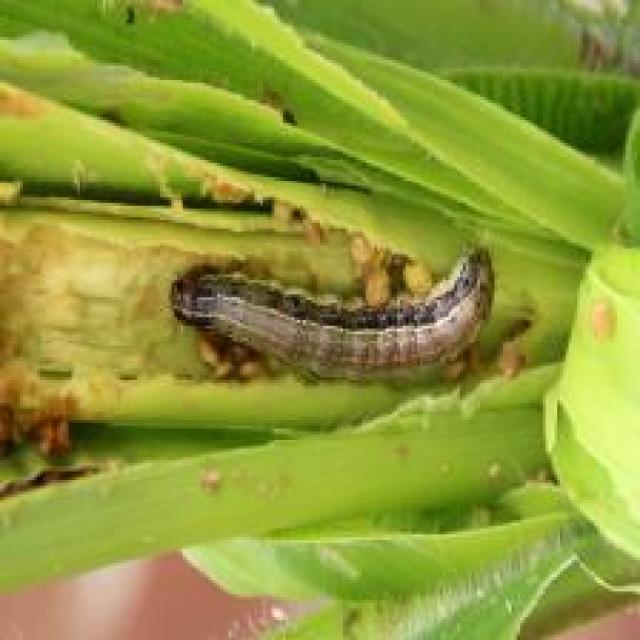Plaga: (167, 230, 512, 378)
